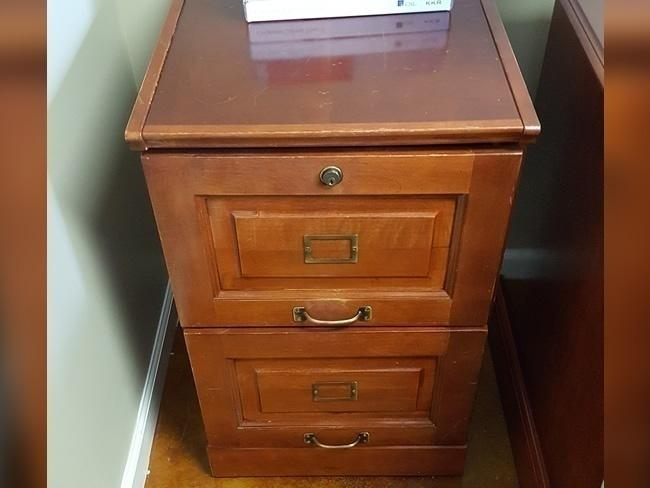cabinet_door: (162, 153, 508, 333), (196, 331, 473, 476)
handle: (298, 426, 375, 457), (291, 302, 370, 332)
